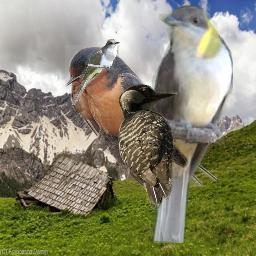Cuckoo: (146, 5, 233, 243), (71, 39, 120, 105)
Swallow: (65, 45, 217, 199)
Woodpecker: (118, 83, 191, 209)
